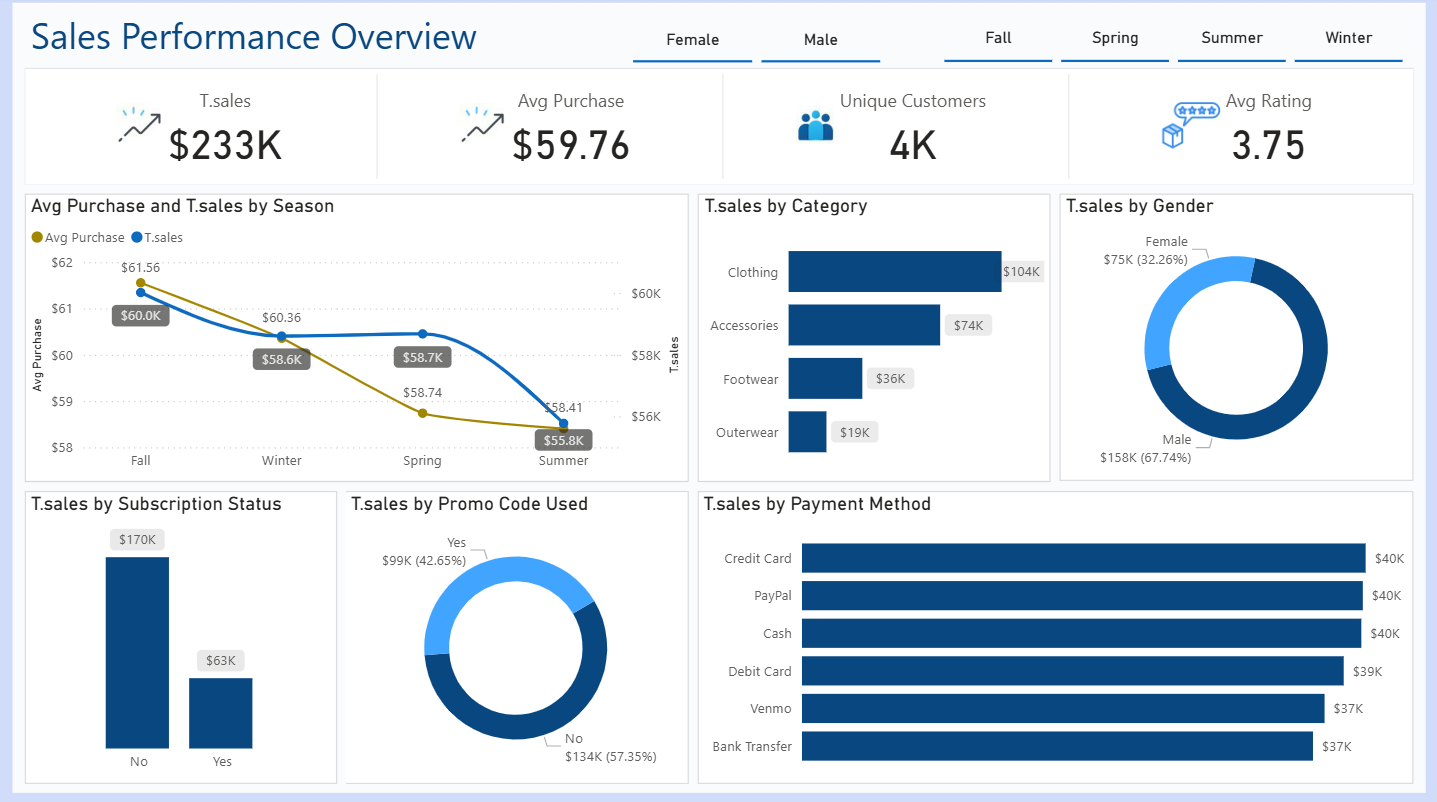

The dashboard page shown, as its layout file describes it:
{"tool":"powerbi","page":{"name":"Sales Performance Overview","canvas":[1280,720],"ordinal":0},"visuals":[{"type":"advancedSlicerVisual","fields":{"Values":["shopping trends.Season"]},"box":[837.3,8.4,421,56.7],"z":0},{"type":"cardVisual","fields":{"Data":["Financial KPIs.T.sales","Financial KPIs.Avg Purchase","Customer Insights.Unique Customers","Behavior KPIs.Avg Rating"]},"box":[23.4,65.2,1235.9,103.4],"z":1000},{"type":"lineChart","fields":{"Category":["shopping trends.Season"],"Y2":["Financial KPIs.T.sales"],"Y":["Financial KPIs.Avg Purchase"]},"box":[23.4,177.3,589.7,256.1],"z":2000},{"type":"clusteredBarChart","fields":{"Y":["Financial KPIs.T.sales"],"Category":["shopping trends.Category"]},"box":[622.9,177.3,312.7,256.1],"z":3000},{"type":"donutChart","fields":{"Category":["shopping trends.Gender"],"Y":["Financial KPIs.T.sales"]},"box":[944.6,177.3,313.7,255.8],"z":4000},{"type":"clusteredBarChart","fields":{"Category":["shopping trends.Payment Method"],"Y":["Financial KPIs.T.sales"]},"box":[622.5,442.8,635.8,258.2],"z":5000},{"type":"columnChart","fields":{"Y":["Financial KPIs.T.sales"],"Category":["shopping trends.Subscription Status"]},"box":[22.9,442.8,277.5,258.2],"z":6000},{"type":"donutChart","fields":{"Category":["shopping trends.Promo Code Used"],"Y":["Financial KPIs.T.sales"]},"box":[308.8,442.8,304,258.2],"z":7000},{"type":"advancedSlicerVisual","fields":{"Values":["shopping trends.Gender"]},"box":[559.8,12.1,231.6,53.1],"z":8000},{"type":"textbox","box":[22.9,8.4,434.3,77.2],"z":9000}]}

Visuals, with their boxes in screenshot pixels (x1, y1, x2, y2), scaled from the page's 1280x720 canvas onto the 1437x802 screenshot:
advancedSlicerVisual - shopping trends.Season: 940,9,1413,73
cardVisual - Financial KPIs.T.sales x Financial KPIs.Avg Purchase: 26,73,1414,188
lineChart - shopping trends.Season x Financial KPIs.T.sales: 26,197,688,483
clusteredBarChart - Financial KPIs.T.sales x shopping trends.Category: 699,197,1050,483
donutChart - shopping trends.Gender x Financial KPIs.T.sales: 1060,197,1413,482
clusteredBarChart - shopping trends.Payment Method x Financial KPIs.T.sales: 699,493,1413,781
columnChart - Financial KPIs.T.sales x shopping trends.Subscription Status: 26,493,337,781
donutChart - shopping trends.Promo Code Used x Financial KPIs.T.sales: 347,493,688,781
advancedSlicerVisual - shopping trends.Gender: 628,13,888,73
textbox: 26,9,513,95
